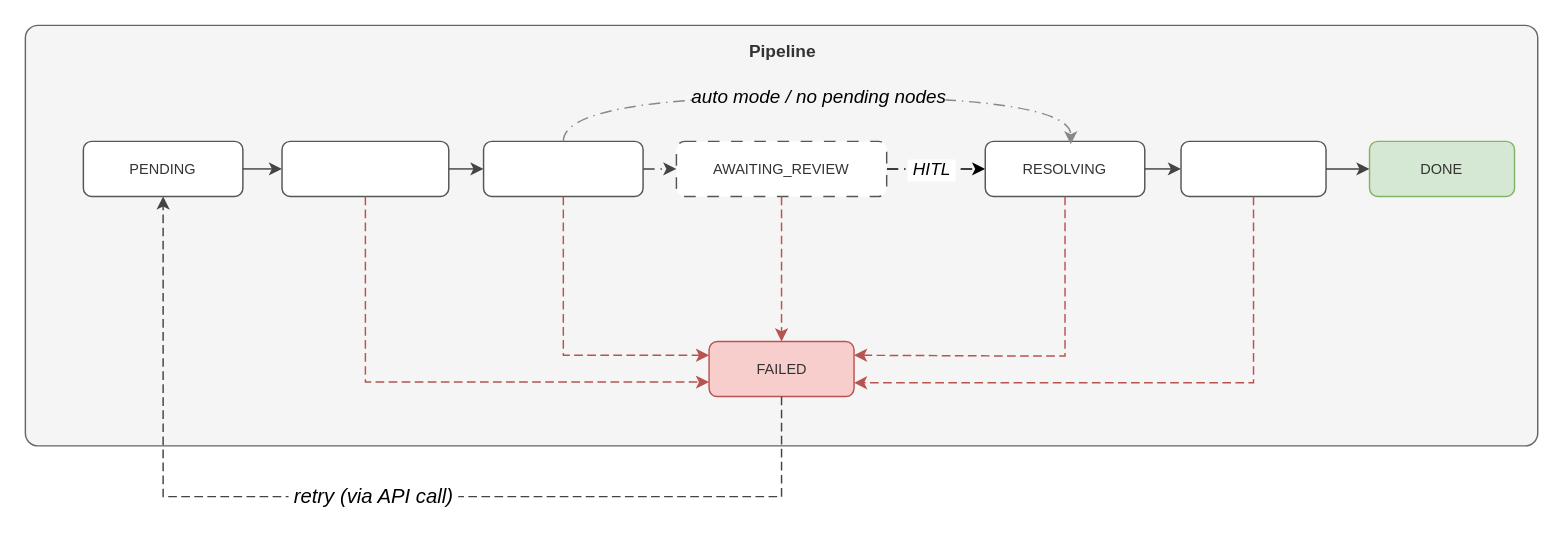
Some shapes in this 1563 by 534 pixel diagram are drawn without their labels. Each missing label, with the box of its shape:
IDENTIFYING: (482, 140, 643, 196)
TRANSCRIBING: (281, 140, 449, 196)
WRITING: (1180, 140, 1326, 196)
